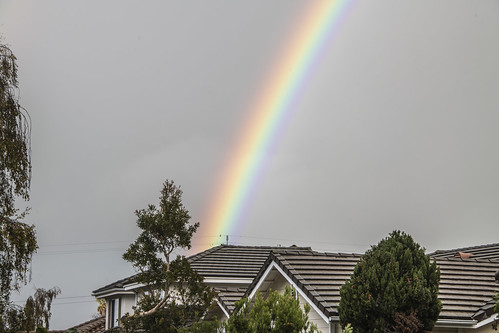building: (245, 237, 499, 333), (84, 232, 305, 333)
rainbow: (196, 1, 366, 248)
sky: (33, 1, 494, 251)
tree: (99, 177, 209, 333), (343, 234, 441, 333)
